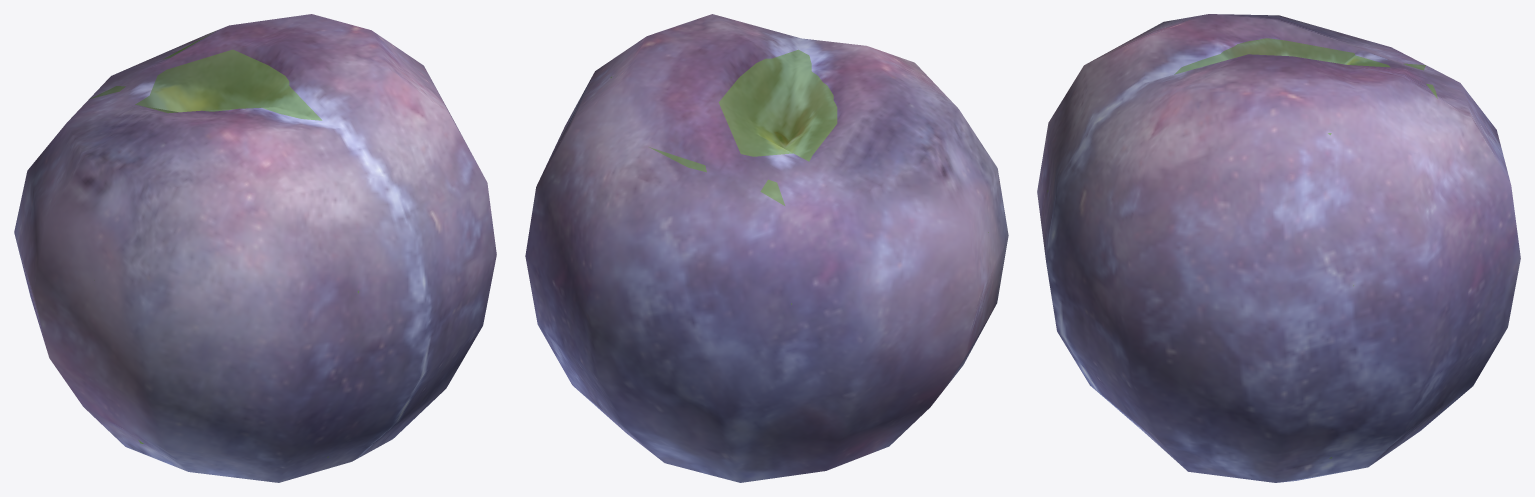
Rendered from pg_Plum_02.fbx.
3 renders of one model, left to right at view 1: azimuth 30°, elevation 25°; view 2: azimuth 150°, elevation 25°; view 3: azimuth 270°, elevation 25°, orthographic. The views are drawn at different scales.
Parts seen in each view (by area): view 1: pg_Plum_02_a_LOD0, pg_Plum_02_a_col; view 2: pg_Plum_02_a_LOD0, pg_Plum_02_a_col; view 3: pg_Plum_02_a_LOD0, pg_Plum_02_a_col.
Part boxes in pixels (bbox=[...]): pg_Plum_02_a_LOD0: bbox=[14, 14, 496, 482]; pg_Plum_02_a_col: bbox=[90, 32, 358, 457]; pg_Plum_02_a_LOD0: bbox=[525, 14, 1008, 482]; pg_Plum_02_a_col: bbox=[610, 50, 988, 304]; pg_Plum_02_a_LOD0: bbox=[1037, 14, 1520, 482]; pg_Plum_02_a_col: bbox=[1047, 38, 1437, 458].
Size of what is drawn, in the model's own units: 6.08 by 5.46 by 5.73.
